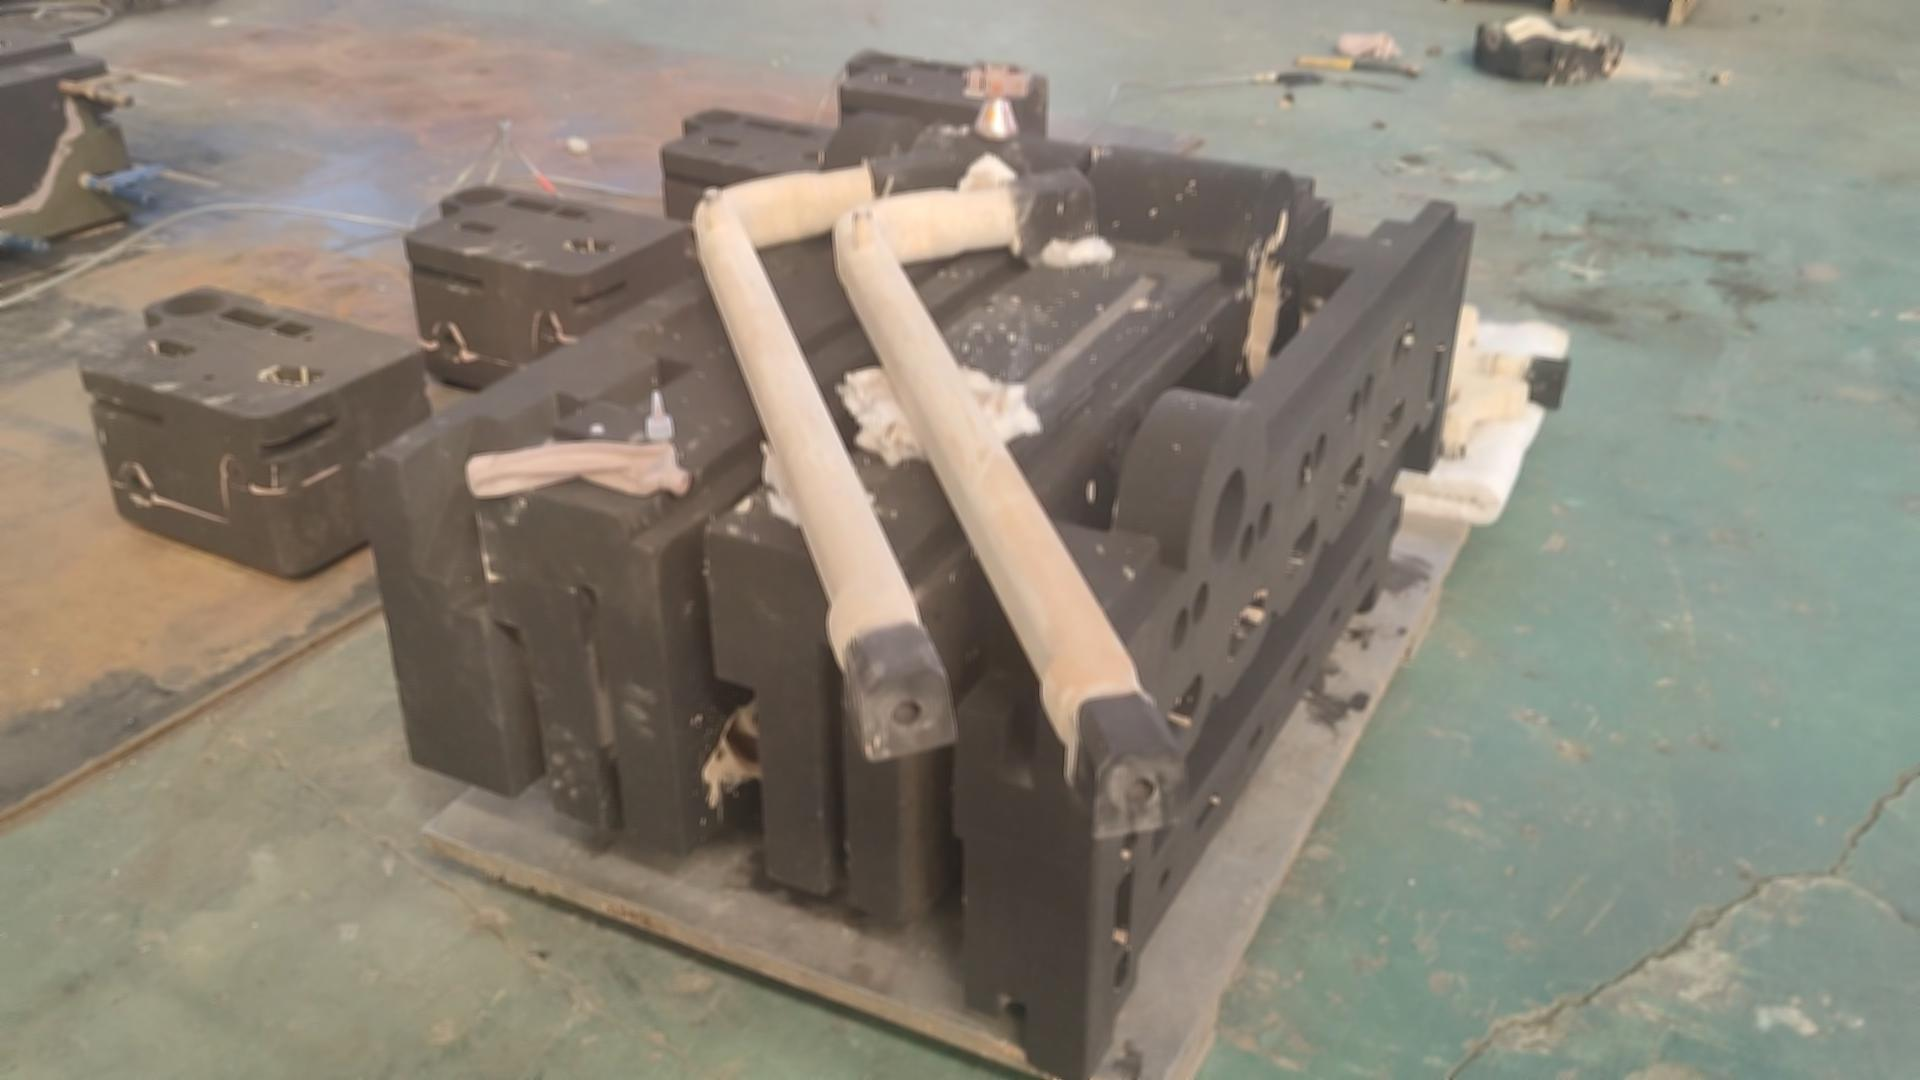pouring hole: (1208, 468, 1247, 566), (162, 289, 225, 316), (454, 187, 510, 206), (694, 109, 741, 124), (856, 51, 898, 65)
